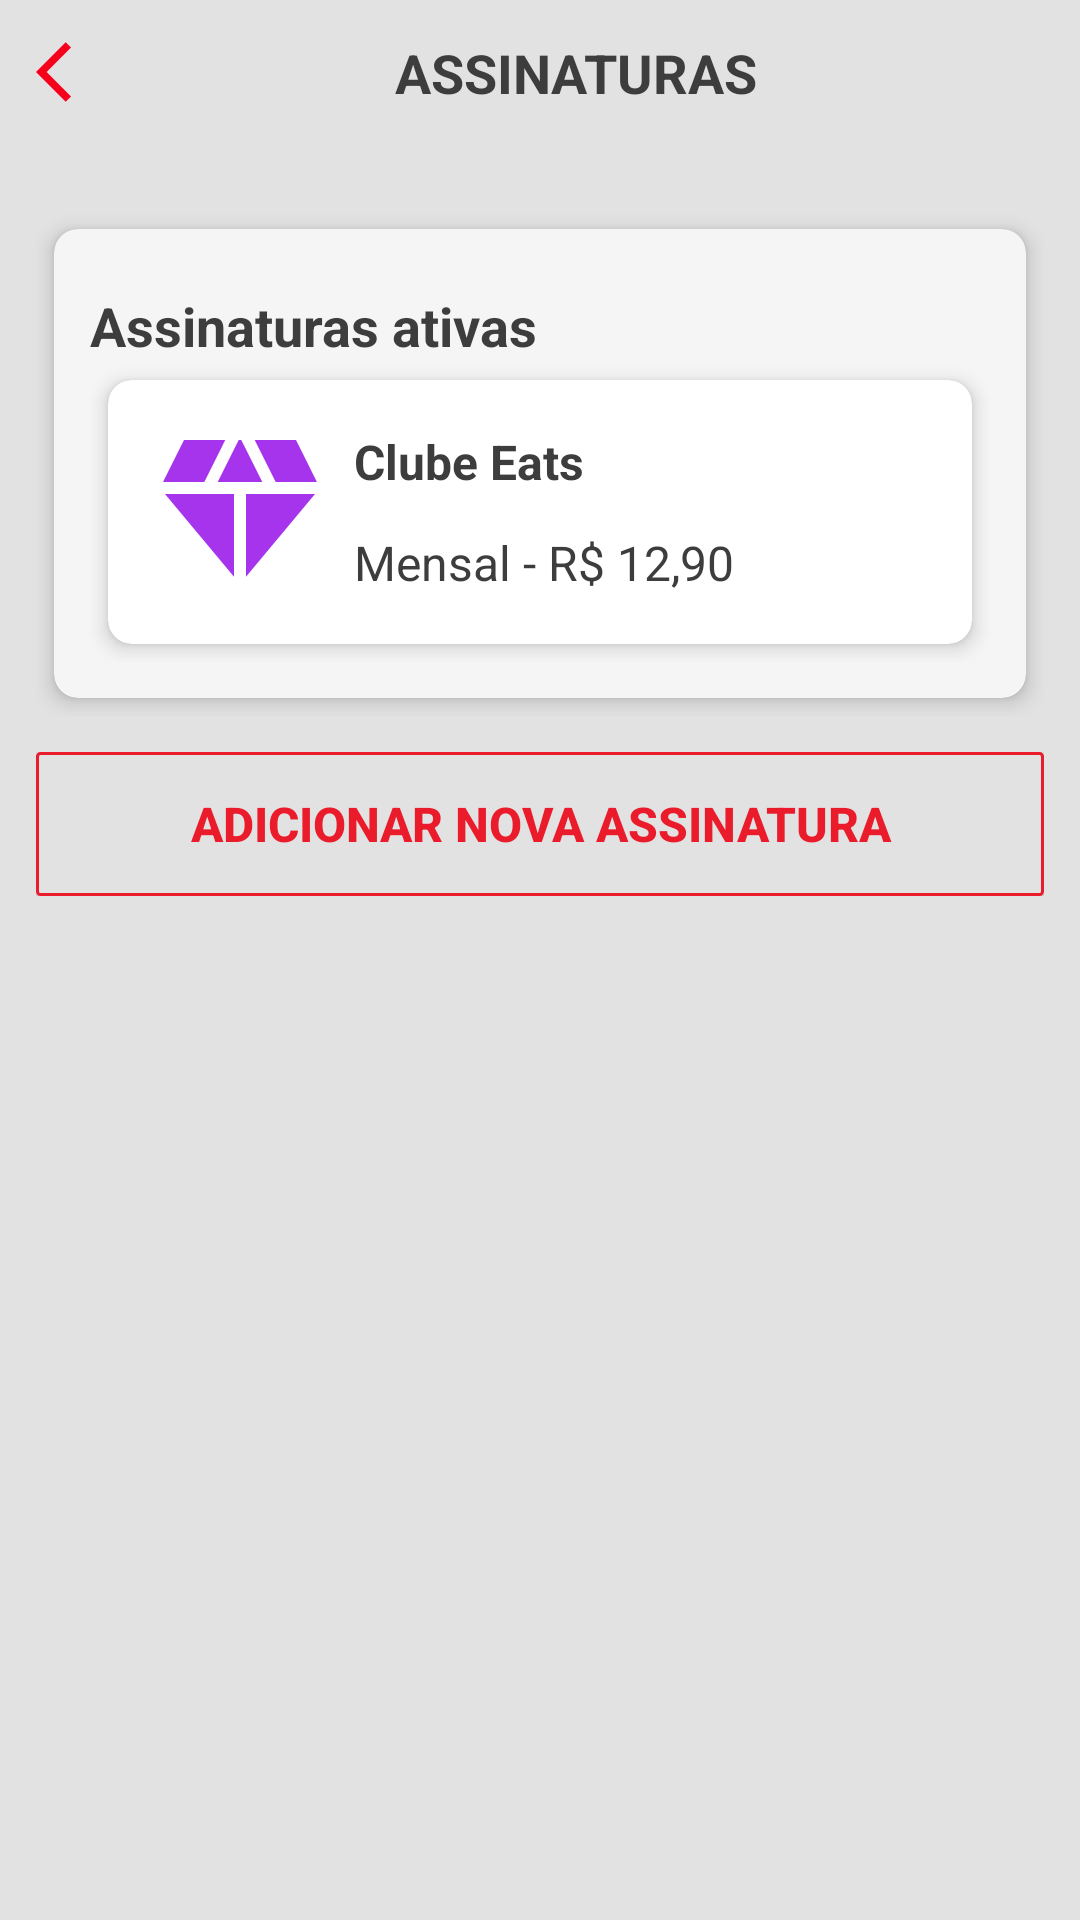

Where icons sit on this 1080px x 1920px app screen, as (x1, y1, x2, y2):
arrow back: (36, 42, 71, 102)
diamond: (163, 440, 317, 577)
